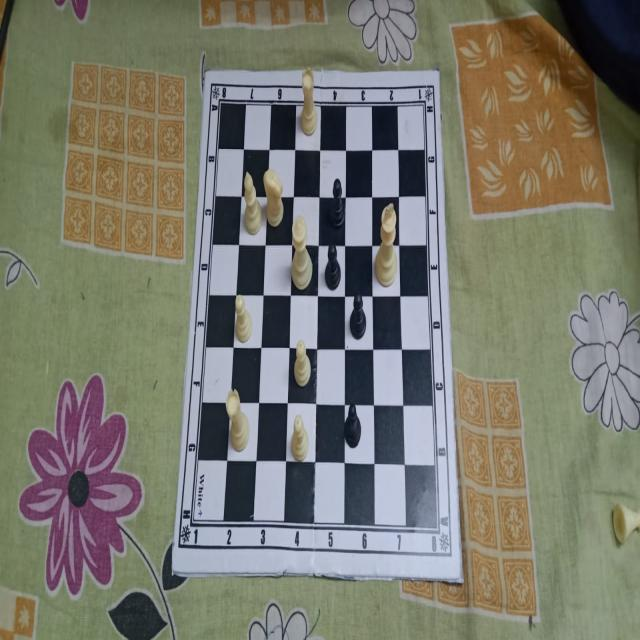corners: (456, 569, 468, 592), (167, 560, 178, 580), (431, 67, 443, 84), (202, 65, 212, 81)
